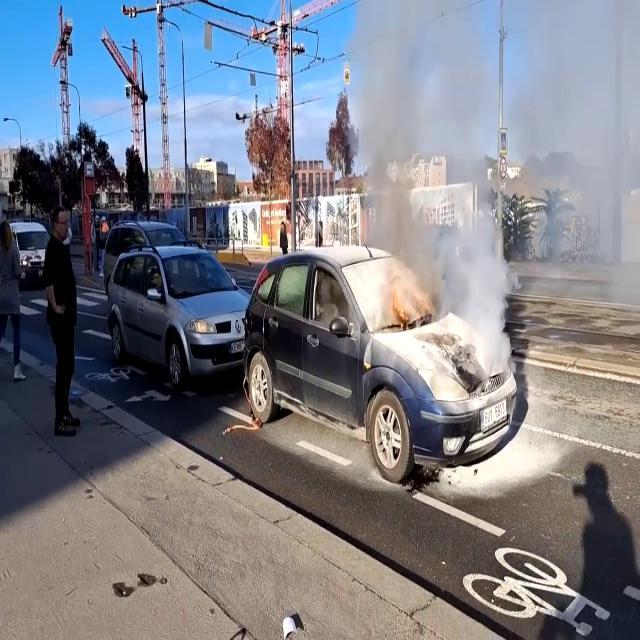Smoke: (346, 0, 640, 352)
